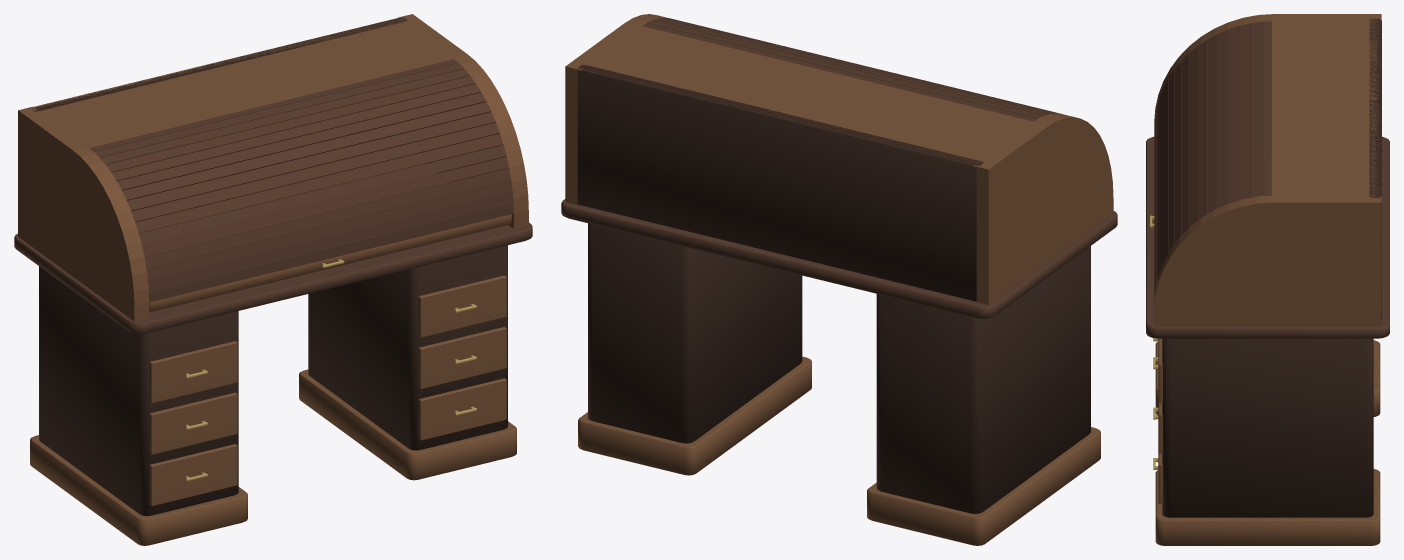
The model's file is rpg-mansion-roll-top-writing-desk-01.glb.
The picture shows the model from 3 angles, left to right: view 1: azimuth 30°, elevation 25°; view 2: azimuth 150°, elevation 25°; view 3: azimuth 270°, elevation 25°; orthographic projection. The views are drawn at different scales.
Visible parts, largest first — view 1: rpg-mansion-roll-top-writing-desk-01; view 2: rpg-mansion-roll-top-writing-desk-01; view 3: rpg-mansion-roll-top-writing-desk-01.
Part boxes in pixels (box(x1,y1,x2,y2)): rpg-mansion-roll-top-writing-desk-01: box(14, 14, 532, 545); rpg-mansion-roll-top-writing-desk-01: box(561, 14, 1117, 545); rpg-mansion-roll-top-writing-desk-01: box(1146, 14, 1389, 545).
Size of the model in its own units: 1.4 by 1.18 by 0.75.
